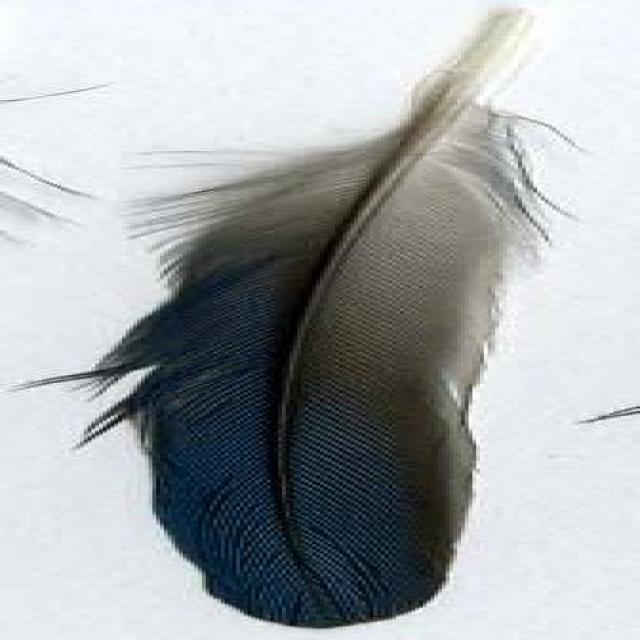feather: (12, 9, 592, 630)
